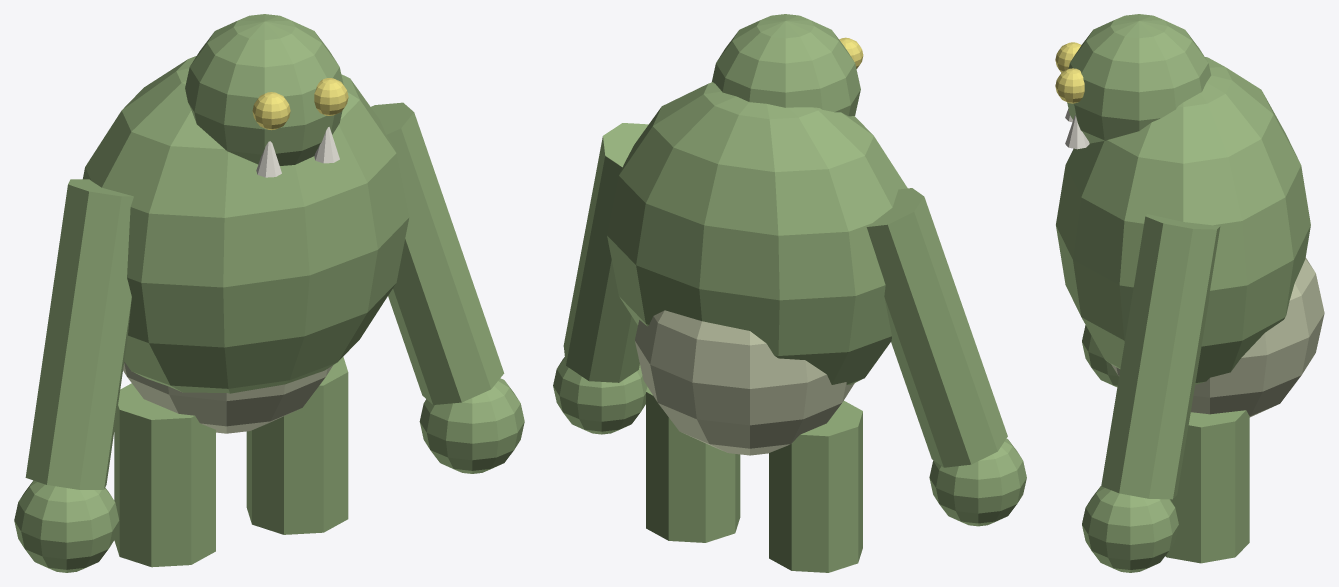
Rendered from creature_brute_green.glb.
The picture shows the model from 3 angles, left to right: view 1: azimuth 30°, elevation 25°; view 2: azimuth 150°, elevation 25°; view 3: azimuth 270°, elevation 25°; orthographic projection. The views are drawn at different scales.
Parts seen in each view (by area): view 1: creature_brute_green; view 2: creature_brute_green; view 3: creature_brute_green.
Part boxes in pixels (x1=…): creature_brute_green: x1=14, y1=14, x2=524, y2=572; creature_brute_green: x1=553, y1=14, x2=1026, y2=572; creature_brute_green: x1=1055, y1=14, x2=1324, y2=572.
Size of the model in its own units: 0.9756 by 1 by 0.4959.
